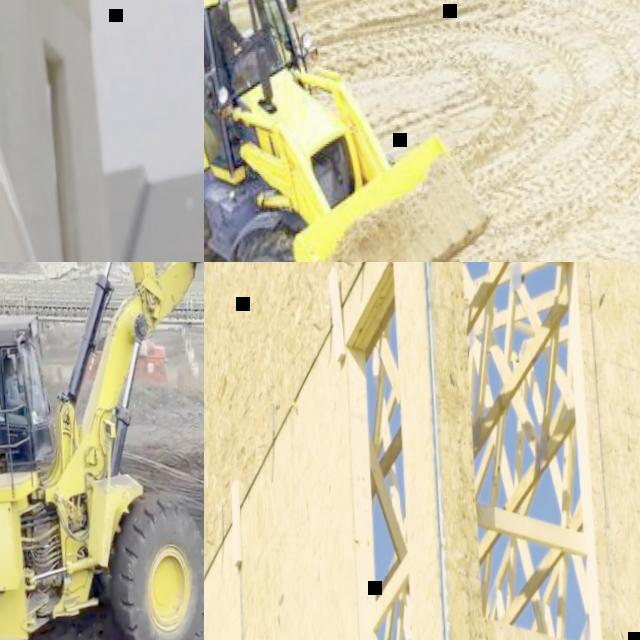NO-Hardhat: (5, 356, 14, 366)
NO-Safety Vest: (5, 376, 21, 409)
Person: (204, 8, 250, 72), (3, 355, 26, 411)
vehicle: (204, 0, 503, 262), (0, 262, 204, 640), (85, 331, 169, 391)
